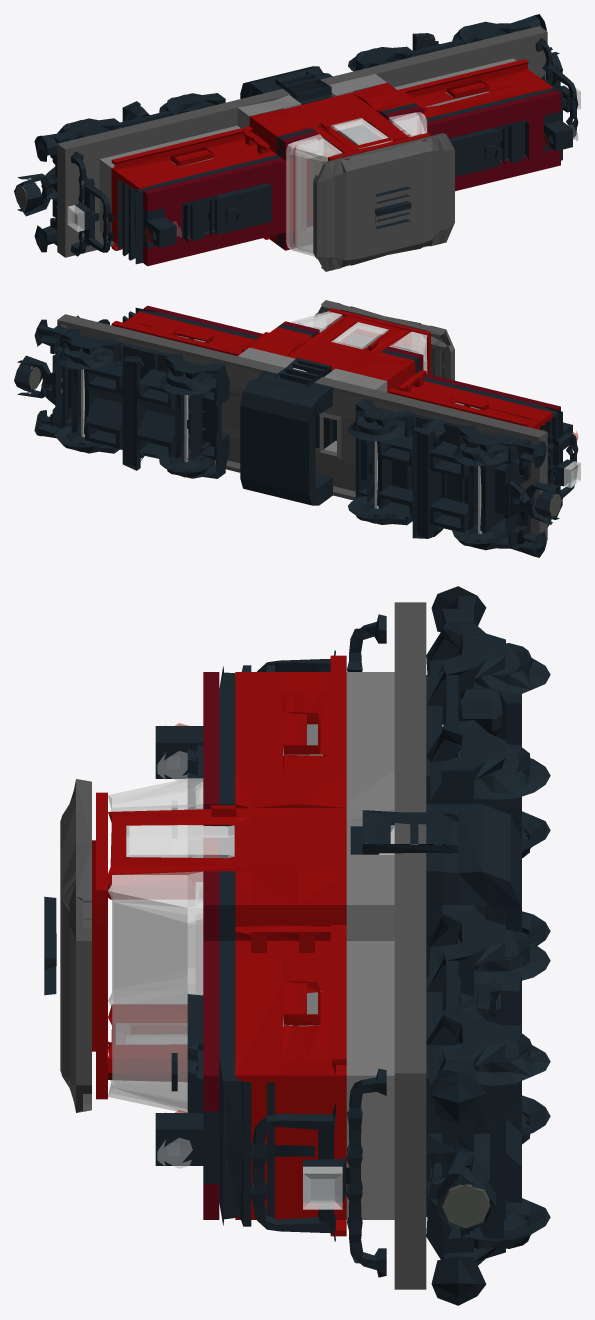
The model's file is switcher.glb.
The picture shows the model from 3 angles, top to bottom: view 1: azimuth 30°, elevation 25°; view 2: azimuth 150°, elevation 25°; view 3: azimuth 270°, elevation 25°; orthographic projection. The views are drawn at different scales.
Bounding box in the file's own units: 248 × 52.8 × 102.
